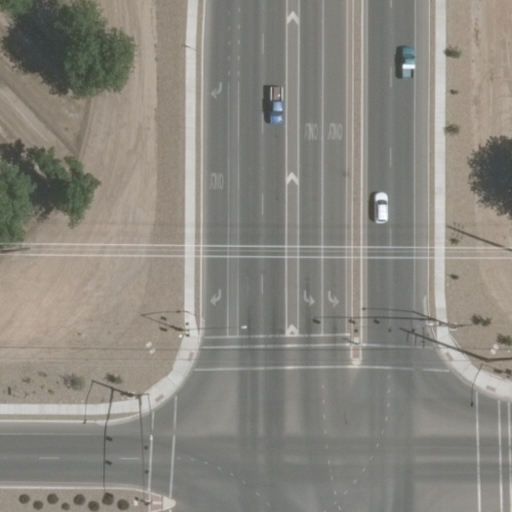DT: (1, 237, 37, 261)
